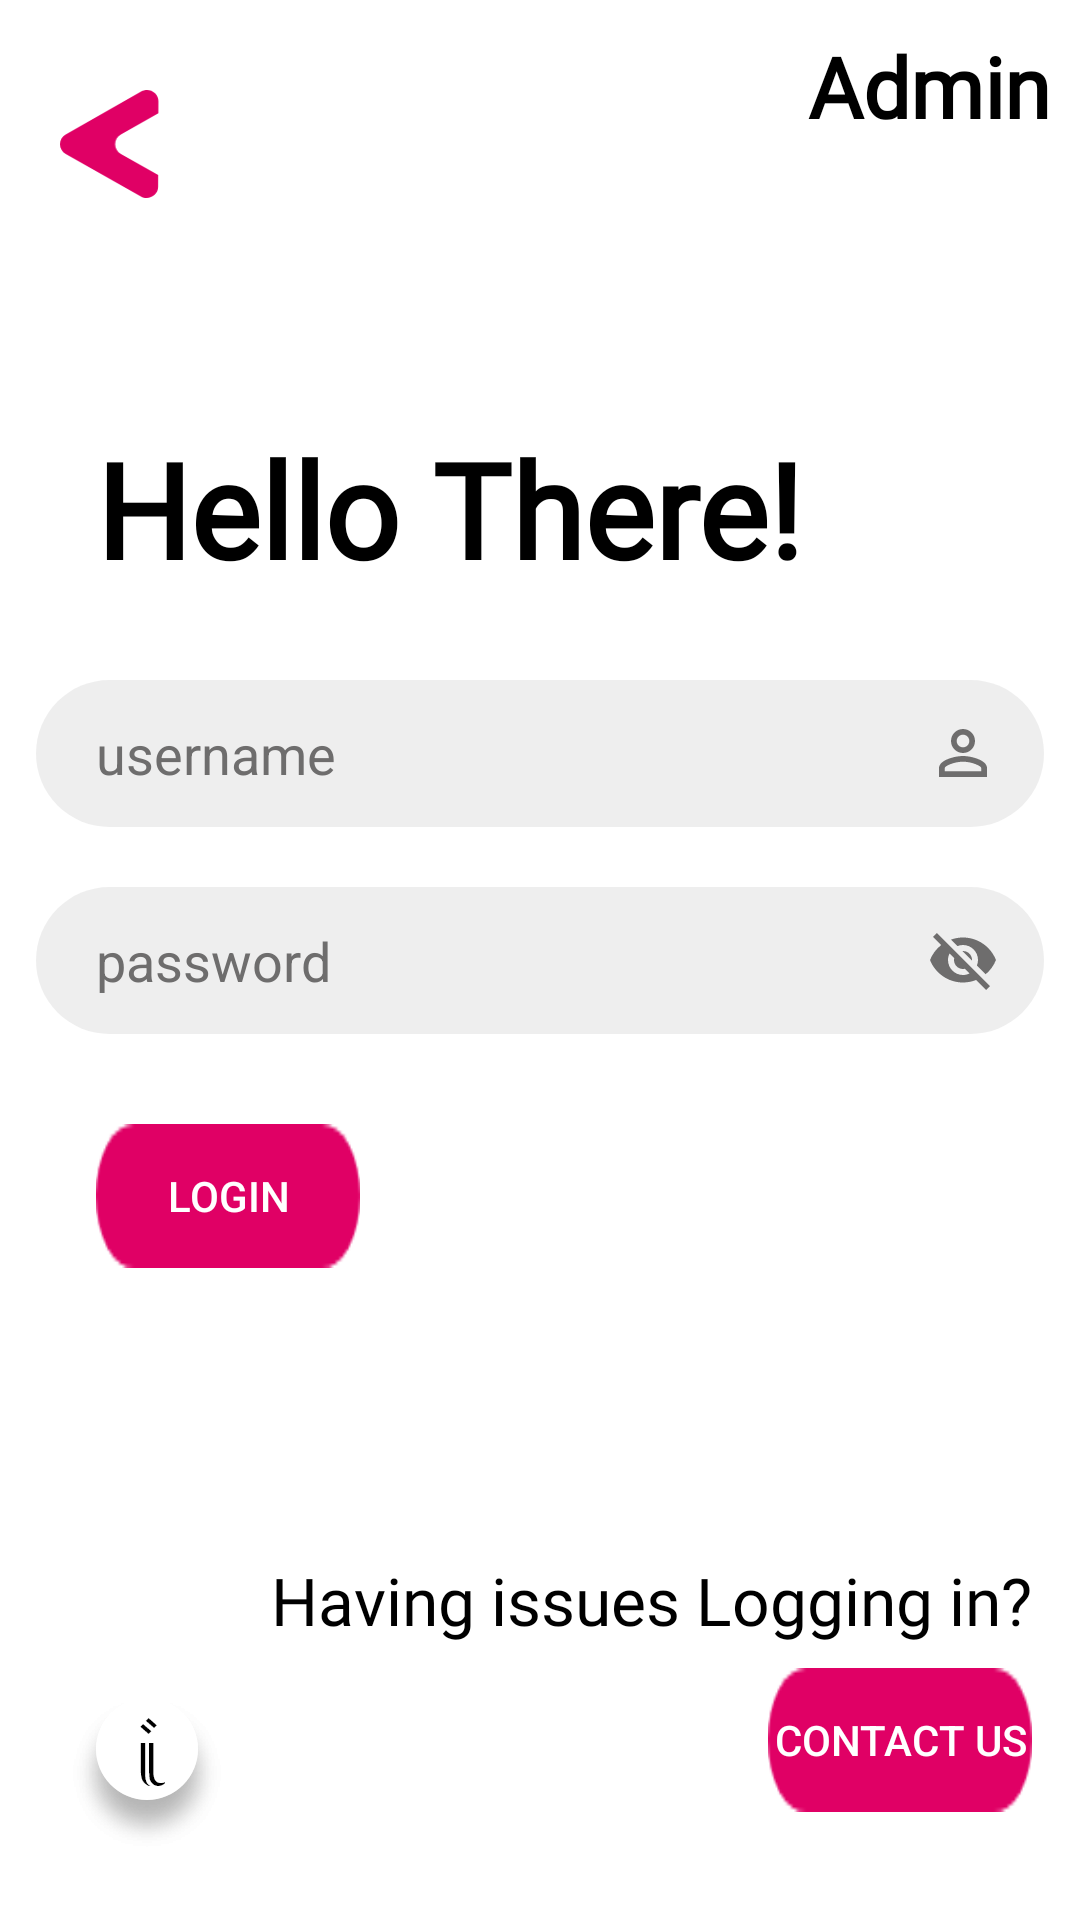

Icons on this 1080×1920 Android screen, each with the point to tap as point (x, y):
backbtn: point (109, 144)
Credits Button: point (147, 1773)
